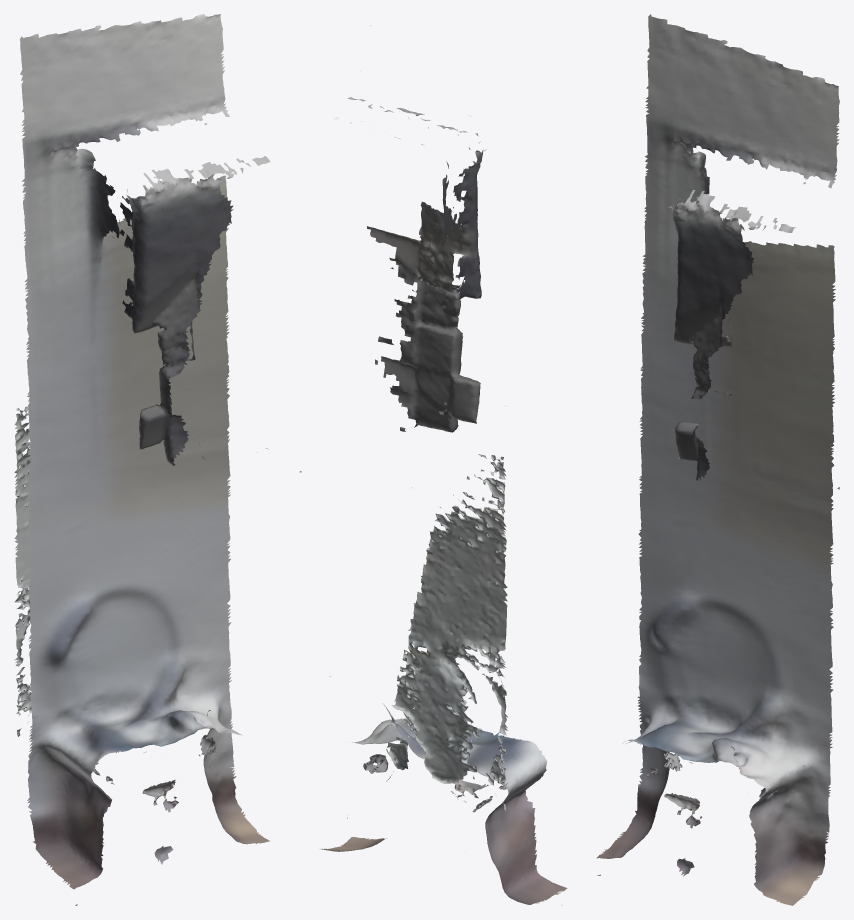
Rendered from apartment-full-95-fb66a38c903d.glb.
3 views of the same model, side by side, from view 1: azimuth 30°, elevation 25°; view 2: azimuth 150°, elevation 25°; view 3: azimuth 330°, elevation 25° (orthographic). The views are drawn at different scales.
Bounding box in the file's own units: 0.532 × 2.11 × 0.274.
